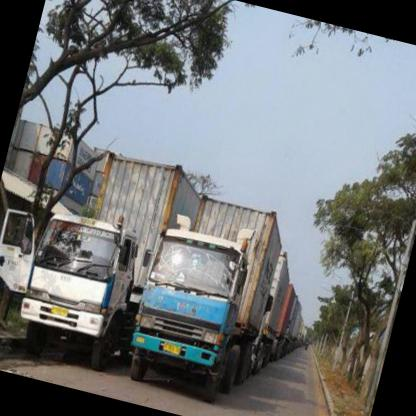truck: (121, 222, 262, 406), (15, 209, 151, 370)
